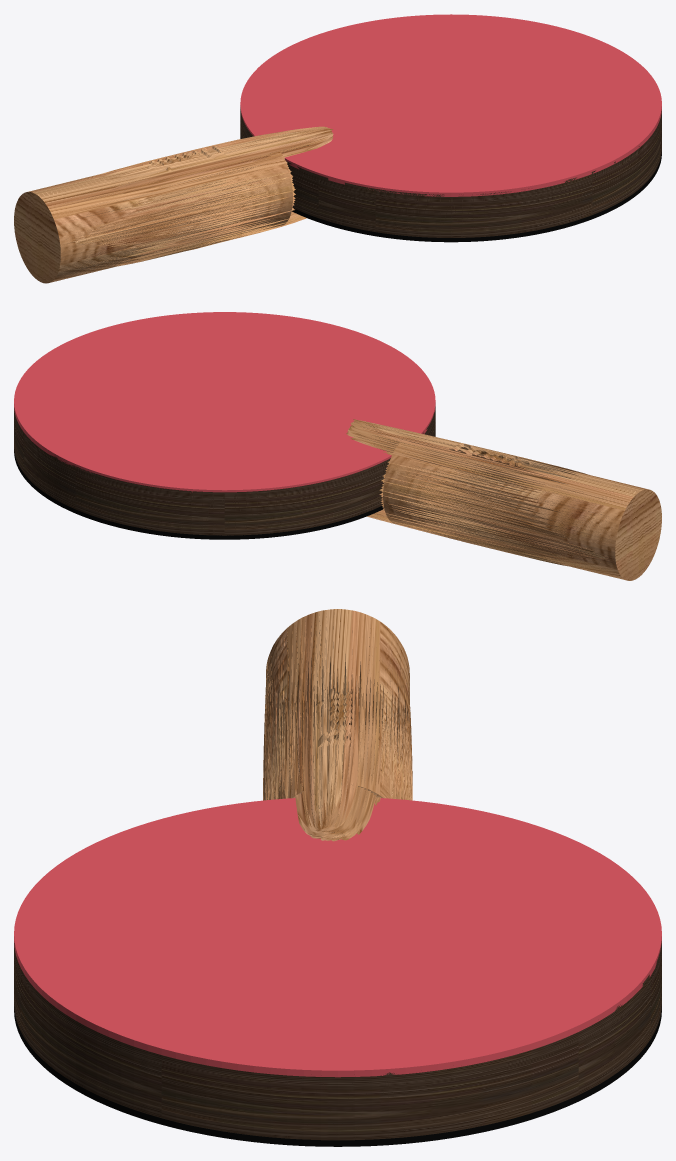
File: TableTennisRacket.glb
The picture shows the model from 3 angles, top to bottom: view 1: azimuth 30°, elevation 25°; view 2: azimuth 150°, elevation 25°; view 3: azimuth 270°, elevation 25°; orthographic projection. The views are drawn at different scales.
Bounding box in the file's own units: 0.294 × 0.0424 × 0.18.
2 materials, 2 textured.
